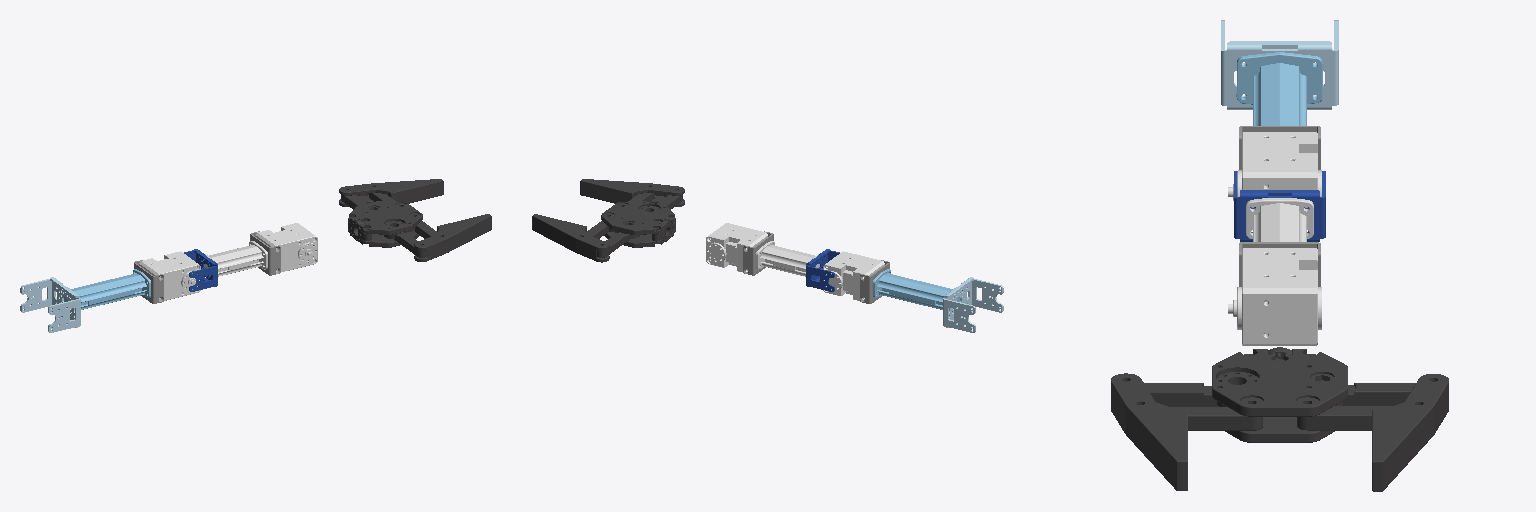
The robot description file, URDF, robot "robot_arm_urdf":
<?xml version="1.0" ?>
<robot name="robot_arm_urdf">
  <link name="link0">
    <inertial>
      <origin xyz="0.000309864 -0.000113995 0.0250597" rpy="0 0 0"/>
      <mass value="0.289487"/>
      <inertia ixx="0.000147378" ixy="5.315e-09" ixz="-1.0857e-06" iyy="0.00019871" iyz="3.34025e-07" izz="0.000188"/>
    </inertial>
    <visual>
      <origin xyz="0.0155 0 0.0345" rpy="0 -0 -1.5708"/>
      <geometry>
        <mesh filename="robotarm_assets/part_2.stl"/>
      </geometry>
      <material name="part_2_material">
        <color rgba="0.615686 0.811765 0.929412 1"/>
      </material>
    </visual>
    <collision>
      <origin xyz="0.0155 0 0.0345" rpy="0 -0 -1.5708"/>
      <geometry>
        <mesh filename="robotarm_assets/part_2.stl"/>
      </geometry>
    </collision>
    <visual>
      <origin xyz="0.0155 -0.0002 0.0345" rpy="0 -0 -1.5708"/>
      <geometry>
        <mesh filename="robotarm_assets/dummy_dc13_idle.stl"/>
      </geometry>
      <material name="dummy_dc13_idle_material">
        <color rgba="0.980392 0.713725 0.00392157 1"/>
      </material>
    </visual>
    <collision>
      <origin xyz="0.0155 -0.0002 0.0345" rpy="0 -0 -1.5708"/>
      <geometry>
        <mesh filename="robotarm_assets/dummy_dc13_idle.stl"/>
      </geometry>
    </collision>
  </link>
  <link name="link1">
    <inertial>
      <origin xyz="0.000460652 0.0207349 -0.0395096" rpy="0 0 0"/>
      <mass value="0.244315"/>
      <inertia ixx="0.000147526" ixy="9.35342e-07" ixz="7.11144e-07" iyy="0.000117384" iyz="-2.61453e-06" izz="0.000136775"/>
    </inertial>
    <visual>
      <origin xyz="0 0 0.0245" rpy="-3.14159 -0 1.5579e-08"/>
      <geometry>
        <mesh filename="robotarm_assets/part_3.stl"/>
      </geometry>
      <material name="part_3_material">
        <color rgba="0.647059 0.647059 0.647059 1"/>
      </material>
    </visual>
    <collision>
      <origin xyz="0 0 0.0245" rpy="-3.14159 -0 1.5579e-08"/>
      <geometry>
        <mesh filename="robotarm_assets/part_3.stl"/>
      </geometry>
    </collision>
    <visual>
      <origin xyz="-3e-12 0.0002 0.0245" rpy="-3.14159 0 1.5579e-08"/>
      <geometry>
        <mesh filename="robotarm_assets/dummy_dc13_idle__2.stl"/>
      </geometry>
      <material name="dummy_dc13_idle_2_material">
        <color rgba="0.231373 0.380392 0.705882 1"/>
      </material>
    </visual>
    <collision>
      <origin xyz="-3e-12 0.0002 0.0245" rpy="-3.14159 0 1.5579e-08"/>
      <geometry>
        <mesh filename="robotarm_assets/dummy_dc13_idle__2.stl"/>
      </geometry>
    </collision>
  </link>
  <link name="link2">
    <inertial>
      <origin xyz="-1.89231e-05 -0.113233 0.0241592" rpy="0 0 0"/>
      <mass value="0.122875"/>
      <inertia ixx="0.00027566" ixy="-3.7118e-08" ixz="6.54e-10" iyy="2.44938e-05" iyz="-1.21033e-06" izz="0.000266476"/>
    </inertial>
    <visual>
      <origin xyz="-2.23277e-05 -0.1315 0.024544" rpy="-1.5708 1.5708 0"/>
      <geometry>
        <mesh filename="robotarm_assets/fr12_s102_k.stl"/>
      </geometry>
      <material name="fr12_s102_k_material">
        <color rgba="0.647059 0.647059 0.647059 1"/>
      </material>
    </visual>
    <collision>
      <origin xyz="-2.23277e-05 -0.1315 0.024544" rpy="-1.5708 1.5708 0"/>
      <geometry>
        <mesh filename="robotarm_assets/fr12_s102_k.stl"/>
      </geometry>
    </collision>
    <visual>
      <origin xyz="-2.23277e-05 -0.1525 0.004544" rpy="3.14159 -0 0"/>
      <geometry>
        <mesh filename="robotarm_assets/dummy_dc12.stl"/>
      </geometry>
      <material name="dummy_dc12_material">
        <color rgba="0.917647 0.917647 0.917647 1"/>
      </material>
    </visual>
    <collision>
      <origin xyz="-2.23277e-05 -0.1525 0.004544" rpy="3.14159 -0 0"/>
      <geometry>
        <mesh filename="robotarm_assets/dummy_dc12.stl"/>
      </geometry>
    </collision>
    <visual>
      <origin xyz="-2.23277e-05 -0.14 0.024544" rpy="-0 1.5708 0"/>
      <geometry>
        <mesh filename="robotarm_assets/part_2__2.stl"/>
      </geometry>
      <material name="part_2_2_material">
        <color rgba="0.615686 0.811765 0.929412 1"/>
      </material>
    </visual>
    <collision>
      <origin xyz="-2.23277e-05 -0.14 0.024544" rpy="-0 1.5708 0"/>
      <geometry>
        <mesh filename="robotarm_assets/part_2__2.stl"/>
      </geometry>
    </collision>
    <visual>
      <origin xyz="0 -0 0.0245" rpy="3.14159 1.5708 0"/>
      <geometry>
        <mesh filename="robotarm_assets/fr13_h101_k.stl"/>
      </geometry>
      <material name="fr13_h101_k_material">
        <color rgba="0.768627 0.886275 0.952941 1"/>
      </material>
    </visual>
    <collision>
      <origin xyz="0 -0 0.0245" rpy="3.14159 1.5708 0"/>
      <geometry>
        <mesh filename="robotarm_assets/fr13_h101_k.stl"/>
      </geometry>
    </collision>
  </link>
  <link name="link3">
    <inertial>
      <origin xyz="0 -0.0971416 0.0185718" rpy="0 0 0"/>
      <mass value="0.108493"/>
      <inertia ixx="0.000118945" ixy="-0" ixz="-0" iyy="1.79972e-05" iyz="-6.83803e-07" izz="0.000113634"/>
    </inertial>
    <visual>
      <origin xyz="-0 -0.1025 0.019" rpy="-1.5708 1.5708 0"/>
      <geometry>
        <mesh filename="robotarm_assets/part_2__3.stl"/>
      </geometry>
      <material name="part_2_3_material">
        <color rgba="0.917647 0.917647 0.917647 1"/>
      </material>
    </visual>
    <collision>
      <origin xyz="-0 -0.1025 0.019" rpy="-1.5708 1.5708 0"/>
      <geometry>
        <mesh filename="robotarm_assets/part_2__3.stl"/>
      </geometry>
    </collision>
    <visual>
      <origin xyz="-0 -0.1235 -0.001" rpy="-3.14159 -0 0"/>
      <geometry>
        <mesh filename="robotarm_assets/dummy_dc12.stl"/>
      </geometry>
      <material name="dummy_dc12_2_material">
        <color rgba="0.917647 0.917647 0.917647 1"/>
      </material>
    </visual>
    <collision>
      <origin xyz="-0 -0.1235 -0.001" rpy="-3.14159 -0 0"/>
      <geometry>
        <mesh filename="robotarm_assets/dummy_dc12.stl"/>
      </geometry>
    </collision>
    <visual>
      <origin xyz="-0 -0 0.019" rpy="3.14159 1.5708 0"/>
      <geometry>
        <mesh filename="robotarm_assets/fr12_h101_k.stl"/>
      </geometry>
      <material name="fr12_h101_k_material">
        <color rgba="0.231373 0.380392 0.705882 1"/>
      </material>
    </visual>
    <collision>
      <origin xyz="-0 -0 0.019" rpy="3.14159 1.5708 0"/>
      <geometry>
        <mesh filename="robotarm_assets/fr12_h101_k.stl"/>
      </geometry>
    </collision>
    <visual>
      <origin xyz="-0 -0.1025 0.019" rpy="-1.5708 1.5708 0"/>
      <geometry>
        <mesh filename="robotarm_assets/fr12_s102_k.stl"/>
      </geometry>
      <material name="fr12_s102_k_2_material">
        <color rgba="0.647059 0.647059 0.647059 1"/>
      </material>
    </visual>
    <collision>
      <origin xyz="-0 -0.1025 0.019" rpy="-1.5708 1.5708 0"/>
      <geometry>
        <mesh filename="robotarm_assets/fr12_s102_k.stl"/>
      </geometry>
    </collision>
  </link>
  <link name="link4">
    <inertial>
      <origin xyz="0 0 0" rpy="0 0 0"/>
      <mass value="1e-09"/>
      <inertia ixx="1e-09" ixy="0" ixz="0" iyy="1e-09" iyz="0" izz="1e-09"/>
    </inertial>
    <visual>
      <origin xyz="-0.0085 -0.06265 0.019075" rpy="-1.5708 -1.5708 0"/>
      <geometry>
        <mesh filename="robotarm_assets/j4_j5_mirrored.stl"/>
      </geometry>
      <material name="j4_j5_mirrored_material">
        <color rgba="0.537255 0.854902 0.827451 1"/>
      </material>
    </visual>
    <collision>
      <origin xyz="-0.0085 -0.06265 0.019075" rpy="-1.5708 -1.5708 0"/>
      <geometry>
        <mesh filename="robotarm_assets/j4_j5_mirrored.stl"/>
      </geometry>
    </collision>
    <visual>
      <origin xyz="-0.0085 -0.06265 0.019075" rpy="-1.5708 -1.5708 0"/>
      <geometry>
        <mesh filename="robotarm_assets/j4_j5_mirrored__2.stl"/>
      </geometry>
      <material name="j4_j5_mirrored_2_material">
        <color rgba="0.537255 0.854902 0.827451 1"/>
      </material>
    </visual>
    <collision>
      <origin xyz="-0.0085 -0.06265 0.019075" rpy="-1.5708 -1.5708 0"/>
      <geometry>
        <mesh filename="robotarm_assets/j4_j5_mirrored__2.stl"/>
      </geometry>
    </collision>
    <visual>
      <origin xyz="-0.0085 -0.06265 0.019075" rpy="1.5708 1.5708 0"/>
      <geometry>
        <mesh filename="robotarm_assets/dummy_dc12__2.stl"/>
      </geometry>
      <material name="dummy_dc12_3_material">
        <color rgba="0.917647 0.917647 0.917647 1"/>
      </material>
    </visual>
    <collision>
      <origin xyz="-0.0085 -0.06265 0.019075" rpy="1.5708 1.5708 0"/>
      <geometry>
        <mesh filename="robotarm_assets/dummy_dc12__2.stl"/>
      </geometry>
    </collision>
  </link>
  <link name="link5">
    <inertial>
      <origin xyz="-0.000777381 -0.000308146 -0.0297451" rpy="0 0 0"/>
      <mass value="0.0294484"/>
      <inertia ixx="9.74641e-06" ixy="1.91104e-07" ixz="-5.836e-09" iyy="1.54088e-05" iyz="-2.313e-09" izz="8.03326e-06"/>
    </inertial>
    <visual>
      <origin xyz="0 -0 -0" rpy="3.14159 0 -3.895e-09"/>
      <geometry>
        <mesh filename="robotarm_assets/p01_05_base.stl"/>
      </geometry>
      <material name="p01_05_base_material">
        <color rgba="0.32549 0.317647 0.317647 1"/>
      </material>
    </visual>
    <collision>
      <origin xyz="0 -0 -0" rpy="3.14159 0 -3.895e-09"/>
      <geometry>
        <mesh filename="robotarm_assets/p01_05_base.stl"/>
      </geometry>
    </collision>
    <visual>
      <origin xyz="0 5e-05 -0" rpy="3.14159 0 -3.895e-09"/>
      <geometry>
        <mesh filename="robotarm_assets/p01_07_body.stl"/>
      </geometry>
      <material name="p01_07_body_material">
        <color rgba="0.32549 0.317647 0.317647 1"/>
      </material>
    </visual>
    <collision>
      <origin xyz="0 5e-05 -0" rpy="3.14159 0 -3.895e-09"/>
      <geometry>
        <mesh filename="robotarm_assets/p01_07_body.stl"/>
      </geometry>
    </collision>
    <visual>
      <origin xyz="-0 -5e-05 0" rpy="-3.14159 0 -3.895e-09"/>
      <geometry>
        <mesh filename="robotarm_assets/p01_06_body_motor.stl"/>
      </geometry>
      <material name="p01_06_body_motor_material">
        <color rgba="0.32549 0.317647 0.317647 1"/>
      </material>
    </visual>
    <collision>
      <origin xyz="-0 -5e-05 0" rpy="-3.14159 0 -3.895e-09"/>
      <geometry>
        <mesh filename="robotarm_assets/p01_06_body_motor.stl"/>
      </geometry>
    </collision>
    <visual>
      <origin xyz="0.0275 0.0228 -0.09265" rpy="-3.14159 0 -1.5708"/>
      <geometry>
        <mesh filename="robotarm_assets/dummy_dc12__3.stl"/>
      </geometry>
      <material name="dummy_dc12_4_material">
        <color rgba="0.917647 0.917647 0.917647 1"/>
      </material>
    </visual>
    <collision>
      <origin xyz="0.0275 0.0228 -0.09265" rpy="-3.14159 0 -1.5708"/>
      <geometry>
        <mesh filename="robotarm_assets/dummy_dc12__3.stl"/>
      </geometry>
    </collision>
  </link>
  <link name="link6">
    <inertial>
      <origin xyz="0.00148139 0.0131112 -0.00445993" rpy="0 0 0"/>
      <mass value="0.00659741"/>
      <inertia ixx="2.745e-06" ixy="1.87617e-07" ixz="-5.675e-09" iyy="2.4936e-07" iyz="-5.7184e-08" izz="2.90928e-06"/>
    </inertial>
    <visual>
      <origin xyz="0.019 -0.03 -0.00385" rpy="1.5708 -0 -3.14159"/>
      <geometry>
        <mesh filename="robotarm_assets/p01_01_gearlink_motor.stl"/>
      </geometry>
      <material name="p01_01_gearlink_motor_material">
        <color rgba="0.32549 0.317647 0.317647 1"/>
      </material>
    </visual>
    <collision>
      <origin xyz="0.019 -0.03 -0.00385" rpy="1.5708 -0 -3.14159"/>
      <geometry>
        <mesh filename="robotarm_assets/p01_01_gearlink_motor.stl"/>
      </geometry>
    </collision>
  </link>
  <joint name="joint_6" type="revolute">
    <origin xyz="0.019 -0.00395 -0.03" rpy="1.5708 1.5708 0"/>
    <parent link="link5"/>
    <child link="link6"/>
    <axis xyz="0 0 1"/>
    <limit effort="10" velocity="10" lower="-1.39626" upper="0"/>
  </joint>
  <link name="link7">
    <inertial>
      <origin xyz="0.00157884 0.0135719 -0.00388399" rpy="0 0 0"/>
      <mass value="0.00640183"/>
      <inertia ixx="2.68558e-06" ixy="1.89731e-07" ixz="-3.44e-10" iyy="2.30542e-07" iyz="-3.05e-10" izz="2.86735e-06"/>
    </inertial>
    <visual>
      <origin xyz="0.019 -0.03 -0.00385" rpy="-1.5708 -0 -0"/>
      <geometry>
        <mesh filename="robotarm_assets/p01_02_gearlink.stl"/>
      </geometry>
      <material name="p01_02_gearlink_material">
        <color rgba="0.32549 0.317647 0.317647 1"/>
      </material>
    </visual>
    <collision>
      <origin xyz="0.019 -0.03 -0.00385" rpy="-1.5708 -0 -0"/>
      <geometry>
        <mesh filename="robotarm_assets/p01_02_gearlink.stl"/>
      </geometry>
    </collision>
  </link>
  <joint name="joint_6_mimic_gear" type="revolute">
    <origin xyz="-0.019 0.00395 -0.03" rpy="-1.5708 1.5708 0"/>
    <parent link="link5"/>
    <child link="link7"/>
    <axis xyz="0 0 1"/>
    <limit effort="10" velocity="10" lower="-3.141592653589793" upper="3.141592653589793"/>
    <mimic joint="joint_6" multiplier="1.0"/>
  </joint>
  <link name="link9">
    <inertial>
      <origin xyz="-0 0.025 -0.00385" rpy="0 0 0"/>
      <mass value="0.00411112"/>
      <inertia ixx="1.09925e-06" ixy="0" ixz="-0" iyy="5.4549e-08" iyz="0" izz="1.11342e-06"/>
    </inertial>
    <visual>
      <origin xyz="-0.0125 0.105174 -0.00385" rpy="1.5708 -0 0"/>
      <geometry>
        <mesh filename="robotarm_assets/p01_03_link.stl"/>
      </geometry>
      <material name="p01_03_link_material">
        <color rgba="0.32549 0.317647 0.317647 1"/>
      </material>
    </visual>
    <collision>
      <origin xyz="-0.0125 0.105174 -0.00385" rpy="1.5708 -0 0"/>
      <geometry>
        <mesh filename="robotarm_assets/p01_03_link.stl"/>
      </geometry>
    </collision>
  </link>
  <link name="link10">
    <inertial>
      <origin xyz="0.0184752 0.00866502 0.004" rpy="0 0 0"/>
      <mass value="0.0165615"/>
      <inertia ixx="1.62362e-06" ixy="-2.35914e-06" ixz="-0" iyy="7.98655e-06" iyz="-0" izz="8.887e-06"/>
    </inertial>
    <visual>
      <origin xyz="-0.104415 0.0211824 0.004" rpy="-1.5708 0 -1.5708"/>
      <geometry>
        <mesh filename="robotarm_assets/p01_04_finger.stl"/>
      </geometry>
      <material name="p01_04_finger_material">
        <color rgba="0.32549 0.317647 0.317647 1"/>
      </material>
    </visual>
    <collision>
      <origin xyz="-0.104415 0.0211824 0.004" rpy="-1.5708 0 -1.5708"/>
      <geometry>
        <mesh filename="robotarm_assets/p01_04_finger.stl"/>
      </geometry>
    </collision>
  </link>
  <link name="link6_2">
    <inertial>
      <origin xyz="0.00148139 -0.0368888 -0.00445993" rpy="0 0 0"/>
      <mass value="0.00659741"/>
      <inertia ixx="2.745e-06" ixy="1.87617e-07" ixz="-5.675e-09" iyy="2.4936e-07" iyz="-5.7184e-08" izz="2.90928e-06"/>
    </inertial>
    <visual>
      <origin xyz="0.019 -0.08 -0.00385" rpy="1.5708 -0 -3.14159"/>
      <geometry>
        <mesh filename="robotarm_assets/p01_01_gearlink_motor.stl"/>
      </geometry>
      <material name="p01_01_gearlink_motor_2_material">
        <color rgba="0.32549 0.317647 0.317647 1"/>
      </material>
    </visual>
    <collision>
      <origin xyz="0.019 -0.08 -0.00385" rpy="1.5708 -0 -3.14159"/>
      <geometry>
        <mesh filename="robotarm_assets/p01_01_gearlink_motor.stl"/>
      </geometry>
    </collision>
  </link>
  <joint name="joint_6_mimic_L2" type="revolute">
    <origin xyz="-0.0251744 -0.0065 0" rpy="3.14159 -0 0"/>
    <parent link="link10"/>
    <child link="link6_2"/>
    <axis xyz="0 0 1"/>
    <limit effort="10" velocity="10" lower="-3.141592653589793" upper="3.141592653589793"/>
  </joint>
  <joint name="joint_6_mimic_L3" type="revolute">
    <origin xyz="0 0.05 0" rpy="3.14159 -0 0"/>
    <parent link="link9"/>
    <child link="link10"/>
    <axis xyz="0 0 1"/>
    <limit effort="10" velocity="10" lower="-3.141592653589793" upper="3.141592653589793"/>
  </joint>
  <joint name="joint_6_mimic_L1" type="revolute">
    <origin xyz="0.0125 -0.00395 -0.0551744" rpy="1.5708 1.5708 0"/>
    <parent link="link5"/>
    <child link="link9"/>
    <axis xyz="0 0 1"/>
    <limit effort="10" velocity="10" lower="-3.141592653589793" upper="3.141592653589793"/>
  </joint>
  <link name="link8">
    <inertial>
      <origin xyz="0 -0.025 0.00385" rpy="0 0 0"/>
      <mass value="0.00411112"/>
      <inertia ixx="1.09925e-06" ixy="0" ixz="-0" iyy="5.4549e-08" iyz="-0" izz="1.11342e-06"/>
    </inertial>
    <visual>
      <origin xyz="0.0125 -0.105174 0.00385" rpy="1.5708 0 -3.14159"/>
      <geometry>
        <mesh filename="robotarm_assets/p01_03_link.stl"/>
      </geometry>
      <material name="p01_03_link_2_material">
        <color rgba="0.32549 0.317647 0.317647 1"/>
      </material>
    </visual>
    <collision>
      <origin xyz="0.0125 -0.105174 0.00385" rpy="1.5708 0 -3.14159"/>
      <geometry>
        <mesh filename="robotarm_assets/p01_03_link.stl"/>
      </geometry>
    </collision>
  </link>
  <link name="link11">
    <inertial>
      <origin xyz="0.0184752 -0.00866502 -0.004" rpy="0 0 0"/>
      <mass value="0.0165615"/>
      <inertia ixx="1.62362e-06" ixy="2.35914e-06" ixz="0" iyy="7.98655e-06" iyz="-0" izz="8.887e-06"/>
    </inertial>
    <visual>
      <origin xyz="-0.104415 -0.0211824 -0.004" rpy="1.5708 -0 1.5708"/>
      <geometry>
        <mesh filename="robotarm_assets/p01_04_finger.stl"/>
      </geometry>
      <material name="p01_04_finger_2_material">
        <color rgba="0.32549 0.317647 0.317647 1"/>
      </material>
    </visual>
    <collision>
      <origin xyz="-0.104415 -0.0211824 -0.004" rpy="1.5708 -0 1.5708"/>
      <geometry>
        <mesh filename="robotarm_assets/p01_04_finger.stl"/>
      </geometry>
    </collision>
  </link>
  <link name="link7_2">
    <inertial>
      <origin xyz="0.00157884 -0.0364281 -0.00388399" rpy="0 0 0"/>
      <mass value="0.00640183"/>
      <inertia ixx="2.68558e-06" ixy="1.89731e-07" ixz="-3.44e-10" iyy="2.30542e-07" iyz="-3.05e-10" izz="2.86735e-06"/>
    </inertial>
    <visual>
      <origin xyz="0.019 -0.08 -0.00385" rpy="-1.5708 0 -0"/>
      <geometry>
        <mesh filename="robotarm_assets/p01_02_gearlink.stl"/>
      </geometry>
      <material name="p01_02_gearlink_2_material">
        <color rgba="0.32549 0.317647 0.317647 1"/>
      </material>
    </visual>
    <collision>
      <origin xyz="0.019 -0.08 -0.00385" rpy="-1.5708 0 -0"/>
      <geometry>
        <mesh filename="robotarm_assets/p01_02_gearlink.stl"/>
      </geometry>
    </collision>
  </link>
  <joint name="joint_6_mimic_R2" type="revolute">
    <origin xyz="-0.0251744 0.0065 0" rpy="0 -0 0"/>
    <parent link="link11"/>
    <child link="link7_2"/>
    <axis xyz="0 0 1"/>
    <limit effort="10" velocity="10" lower="-3.141592653589793" upper="3.141592653589793"/>
  </joint>
  <joint name="joint_6_mimic_R3" type="revolute">
    <origin xyz="0 -0.05 -0" rpy="-3.14159 -0 0"/>
    <parent link="link8"/>
    <child link="link11"/>
    <axis xyz="0 0 1"/>
    <limit effort="10" velocity="10" lower="-3.141592653589793" upper="3.141592653589793"/>
  </joint>
  <joint name="joint_6_mimic_R1" type="revolute">
    <origin xyz="-0.0125 0.00395 -0.0551744" rpy="1.5708 1.5708 0"/>
    <parent link="link5"/>
    <child link="link8"/>
    <axis xyz="0 0 1"/>
    <limit effort="10" velocity="10" lower="-3.141592653589793" upper="3.141592653589793"/>
  </joint>
  <joint name="joint_5" type="revolute">
    <origin xyz="4.226e-09 -0.06165 0.019075" rpy="-1.5708 1.5708 0"/>
    <parent link="link4"/>
    <child link="link5"/>
    <axis xyz="0 0 1"/>
    <limit effort="10" velocity="10" lower="-1.5708" upper="1.5708"/>
  </joint>
  <joint name="joint_4" type="revolute">
    <origin xyz="-0 -0.1235 -0" rpy="0 -0 0"/>
    <parent link="link3"/>
    <child link="link4"/>
    <axis xyz="0 0 1"/>
    <limit effort="10" velocity="10" lower="-1.74533" upper="1.5708"/>
  </joint>
  <joint name="joint_3" type="revolute">
    <origin xyz="-2.23277e-05 -0.1525 0.005544" rpy="-0 -0 0"/>
    <parent link="link2"/>
    <child link="link3"/>
    <axis xyz="0 0 1"/>
    <limit effort="10" velocity="10" lower="-2.0944" upper="1.5708"/>
  </joint>
  <joint name="joint_2" type="revolute">
    <origin xyz="0.0245004 0.0002 -0.0458276" rpy="1.5579e-08 -1.5708 0"/>
    <parent link="link1"/>
    <child link="link2"/>
    <axis xyz="0 0 1"/>
    <limit effort="10" velocity="10" lower="0" upper="2.00713"/>
  </joint>
  <joint name="joint_1" type="revolute">
    <origin xyz="0.0155 -0.0002 0.059" rpy="-3.14159 -0 -1.5708"/>
    <parent link="link0"/>
    <child link="link1"/>
    <axis xyz="0 0 1"/>
    <limit effort="10" velocity="10" lower="-3.1415" upper="3.1415"/>
  </joint>
</robot>

--- What the picture shows (computed from the rendered views, not written in the file) ---
3 views of the same robot in one strip: view 1: azimuth 30°, elevation 25°; view 2: azimuth 150°, elevation 25°; view 3: azimuth 270°, elevation 25° (orthographic).
Robot: robot_arm_urdf — 14 links, 13 joints (13 revolute); root link link0; default pose: all joints at 0.
Visible links, largest first — view 1: link2, link3, link5, link10, link11; view 2: link2, link3, link5, link11, link10; view 3: link2, link3, link5, link10, link11, link8, link9, link6, link6_2, link7, link7_2.
Boxes of the visible links, x1,y1,x2,y2 form: link2: (20,251,200,332); link3: (184,223,317,291); link5: (348,201,422,247); link10: (414,214,491,261); link11: (339,179,443,206); link2: (823,251,1003,332); link3: (706,223,839,291); link5: (601,201,675,247); link11: (532,214,609,262); link10: (580,179,684,206); link2: (1221,20,1338,207); link3: (1228,171,1325,345); link5: (1212,347,1347,442); link10: (1111,373,1187,490); link11: (1372,374,1448,491); link8: (1297,406,1391,430); link9: (1171,407,1262,430); link6: (1144,372,1258,396); link6_2: (1150,372,1256,406); link7: (1335,392,1408,405); link7_2: (1348,383,1415,396).
Bounding box of the posed robot: 0.4569 × 0.152 × 0.032 m (x, y, z).
19 mesh visuals loaded from 21 distinct referenced files (13 binary STL); not drawn: 8 (reference not matched to a file when rendering).
